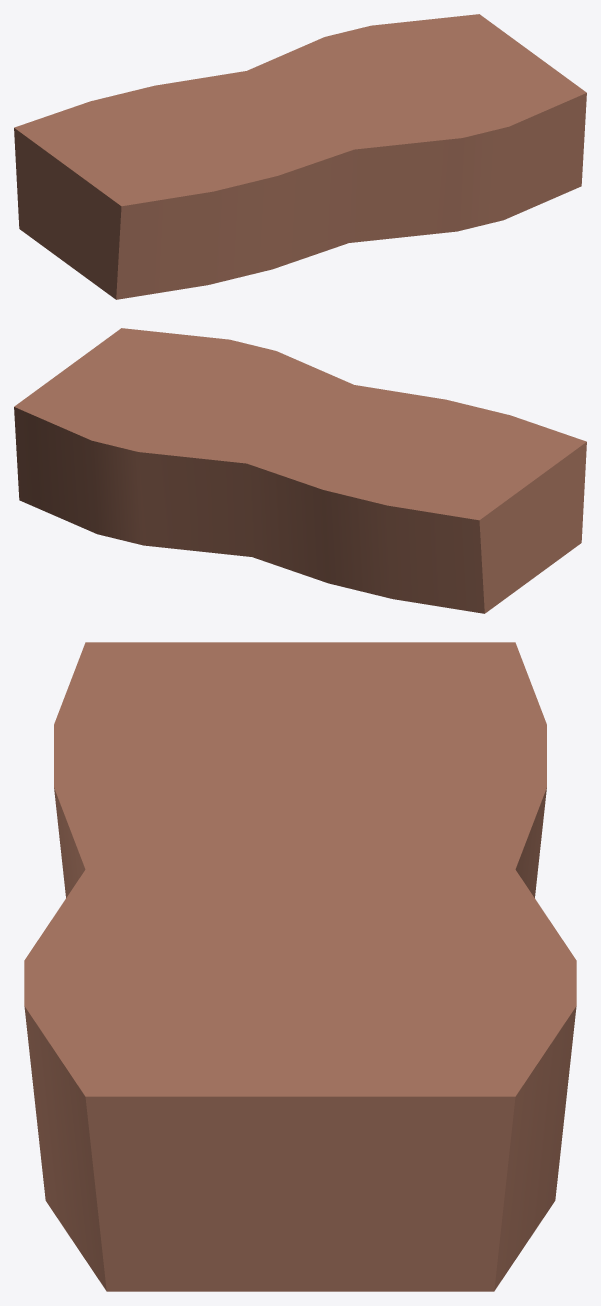
Rendered from gate-overhang.glb.
The picture shows the model from 3 angles, top to bottom: view 1: azimuth 30°, elevation 25°; view 2: azimuth 150°, elevation 25°; view 3: azimuth 270°, elevation 25°; orthographic projection. The views are drawn at different scales.
Parts seen in each view (by area): view 1: gate-overhang; view 2: gate-overhang; view 3: gate-overhang.
Part boxes in pixels (left/top/right/bottom): gate-overhang: left=14, top=14, right=586, bottom=299; gate-overhang: left=14, top=328, right=586, bottom=613; gate-overhang: left=24, top=642, right=576, bottom=1291.
Bounding box in the file's own units: 4 × 0.8 × 2.05.
Materials: 1 (1 with a texture image).
